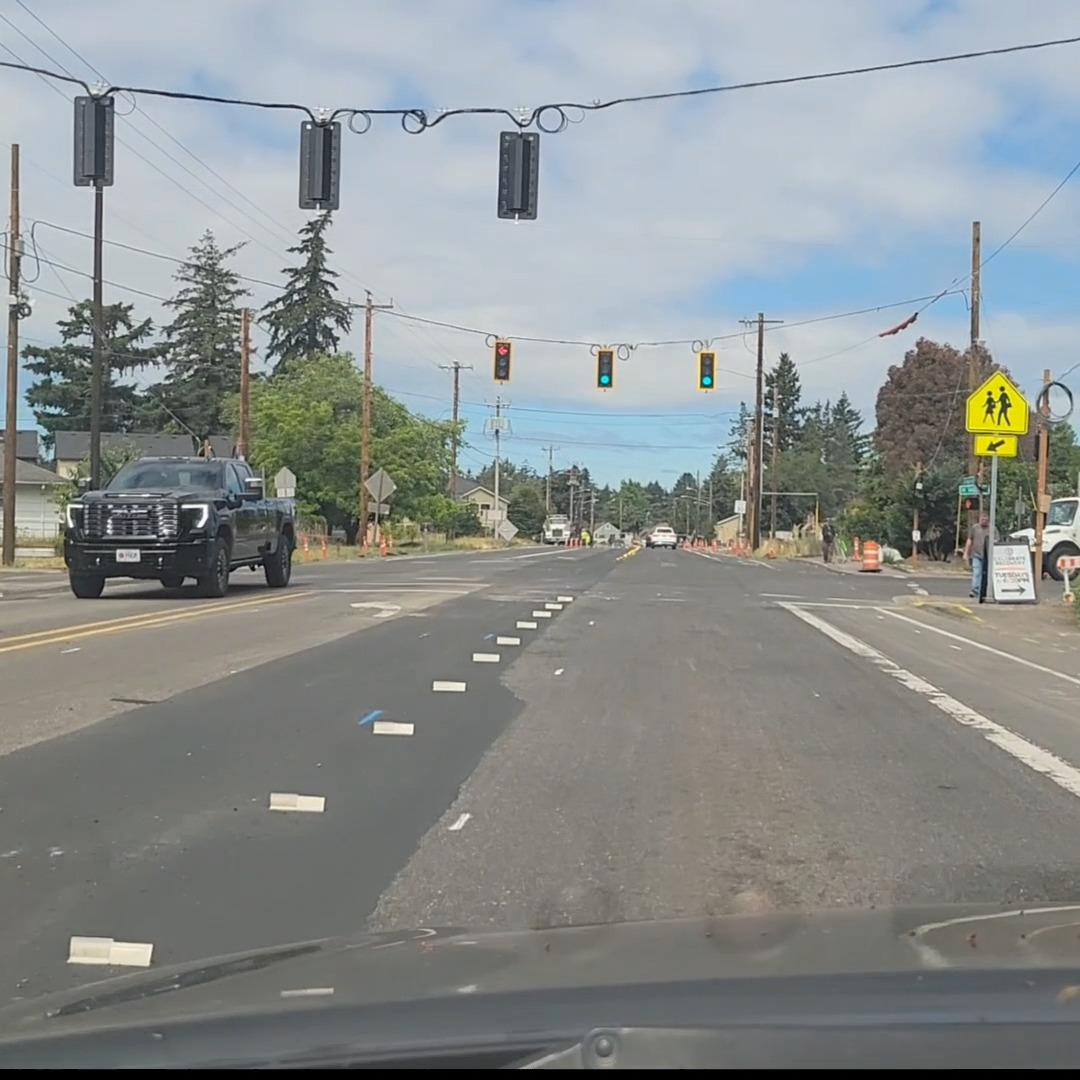car: (61, 454, 289, 597), (643, 525, 676, 548)
